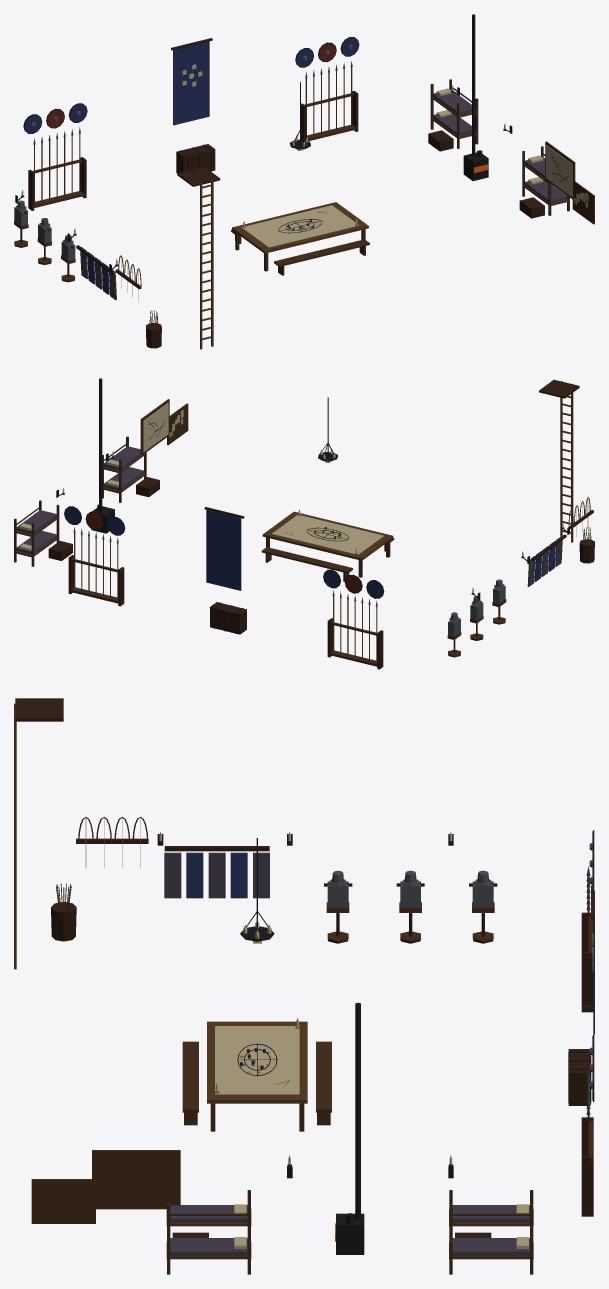
Rendered from northwatch.glb.
3 views of the same model, one above another, from view 1: azimuth 30°, elevation 25°; view 2: azimuth 150°, elevation 25°; view 3: azimuth 270°, elevation 25° (orthographic). The views are drawn at different scales.
Parts seen in each view (by area): view 1: northwatch; view 2: northwatch; view 3: northwatch.
Part boxes in pixels (<box>): northwatch: <box>14,14,594,349</box>; northwatch: <box>14,378,594,669</box>; northwatch: <box>14,698,594,1274</box>.
Size of the model in its own units: 20.38 by 7.01 by 14.4.
